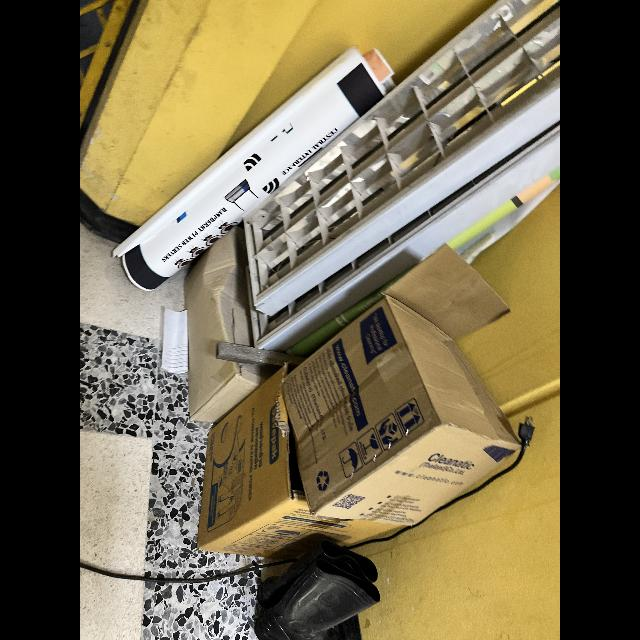cardboard_box: (280, 233, 530, 525), (188, 368, 404, 554), (182, 232, 274, 414)
